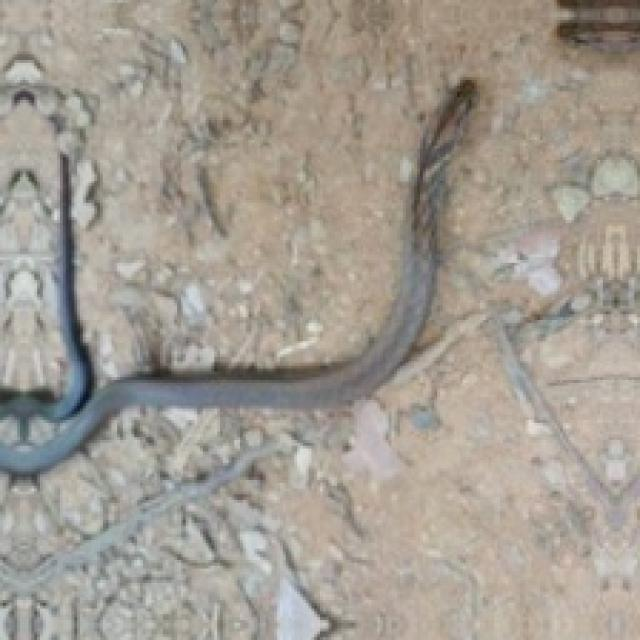reinhardts lined snake: (0, 80, 474, 471), (0, 83, 474, 474)
